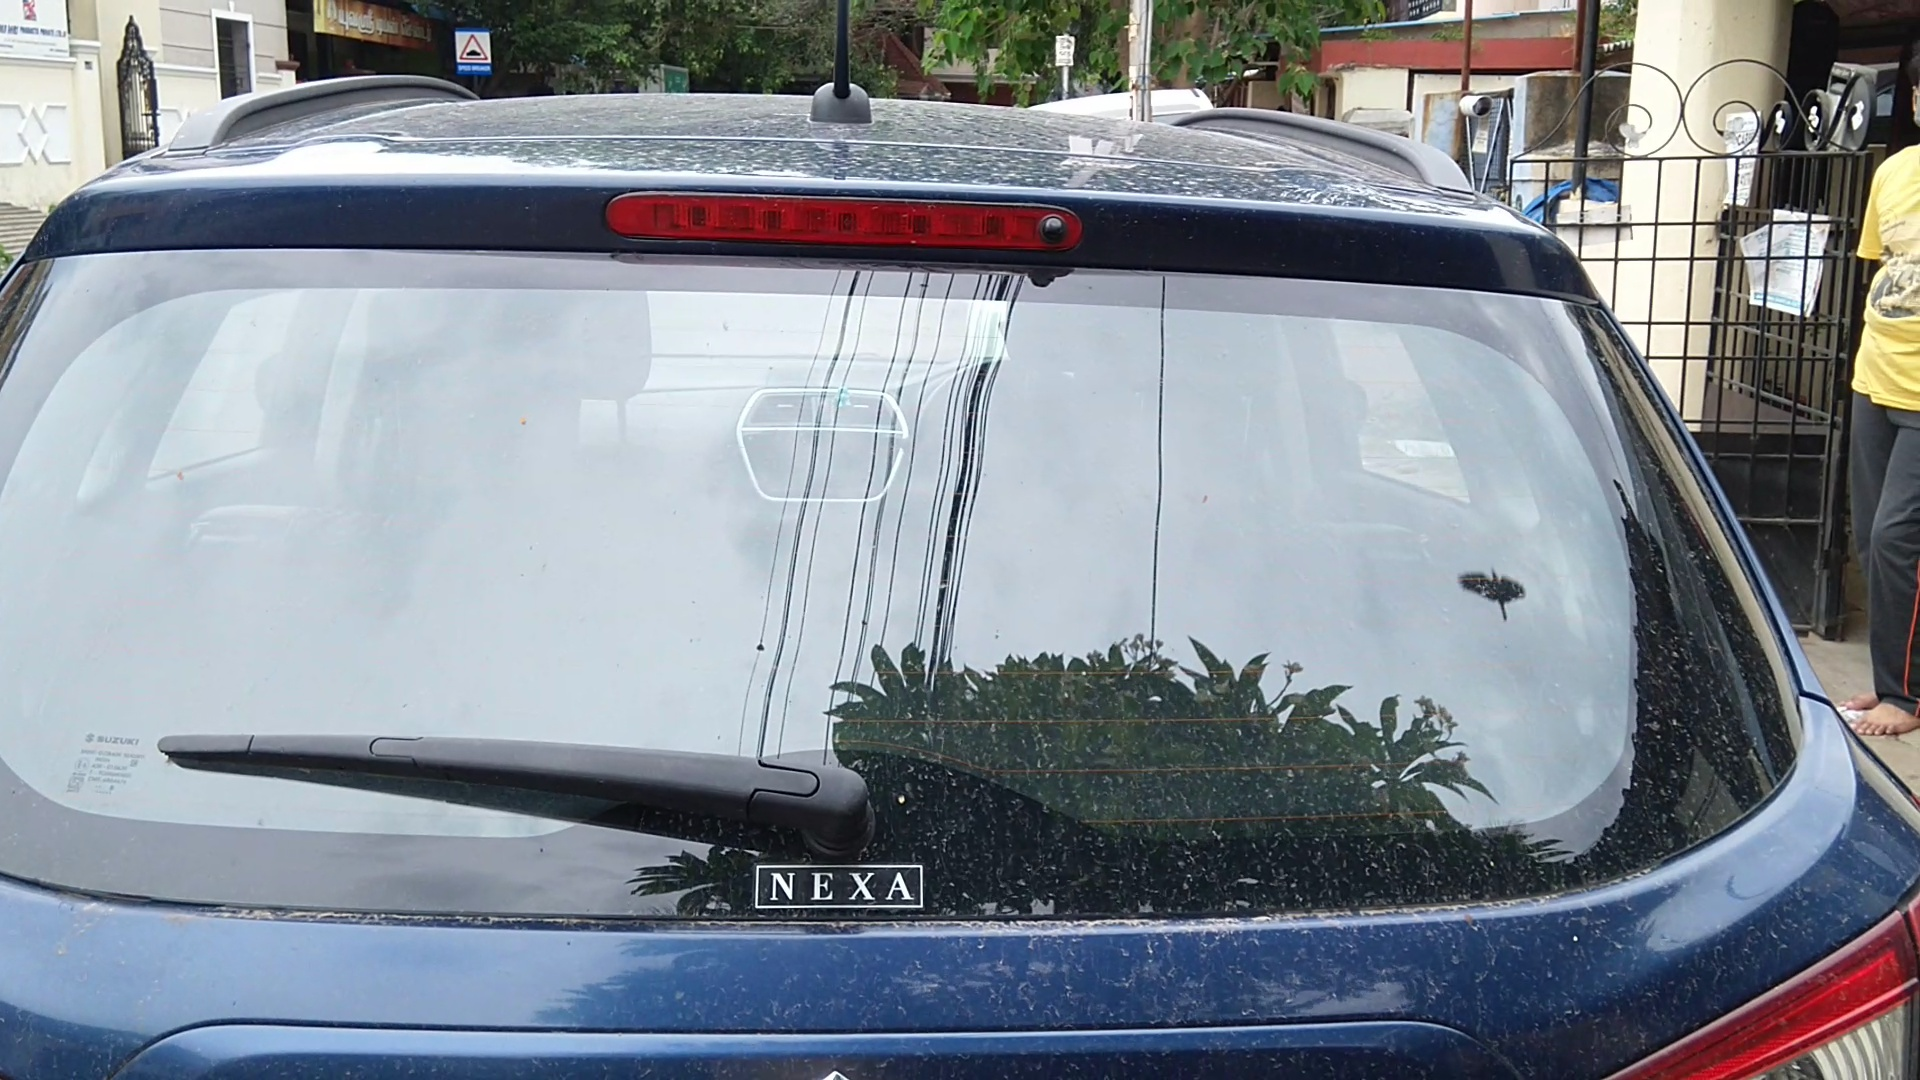rear_camera: (1023, 195, 1085, 248)
